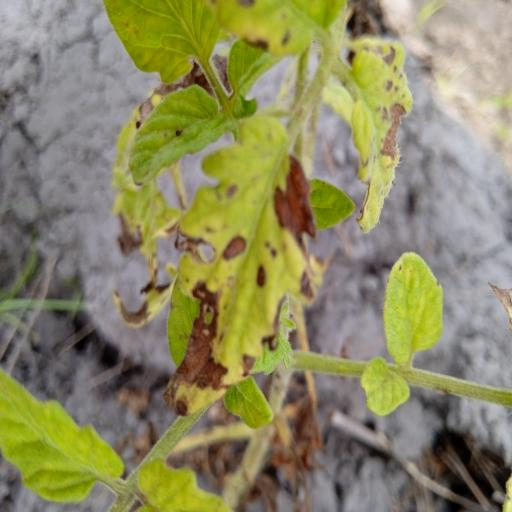Tomato_Brown_Spots: (165, 112, 316, 420), (0, 358, 129, 512), (336, 29, 416, 242)
